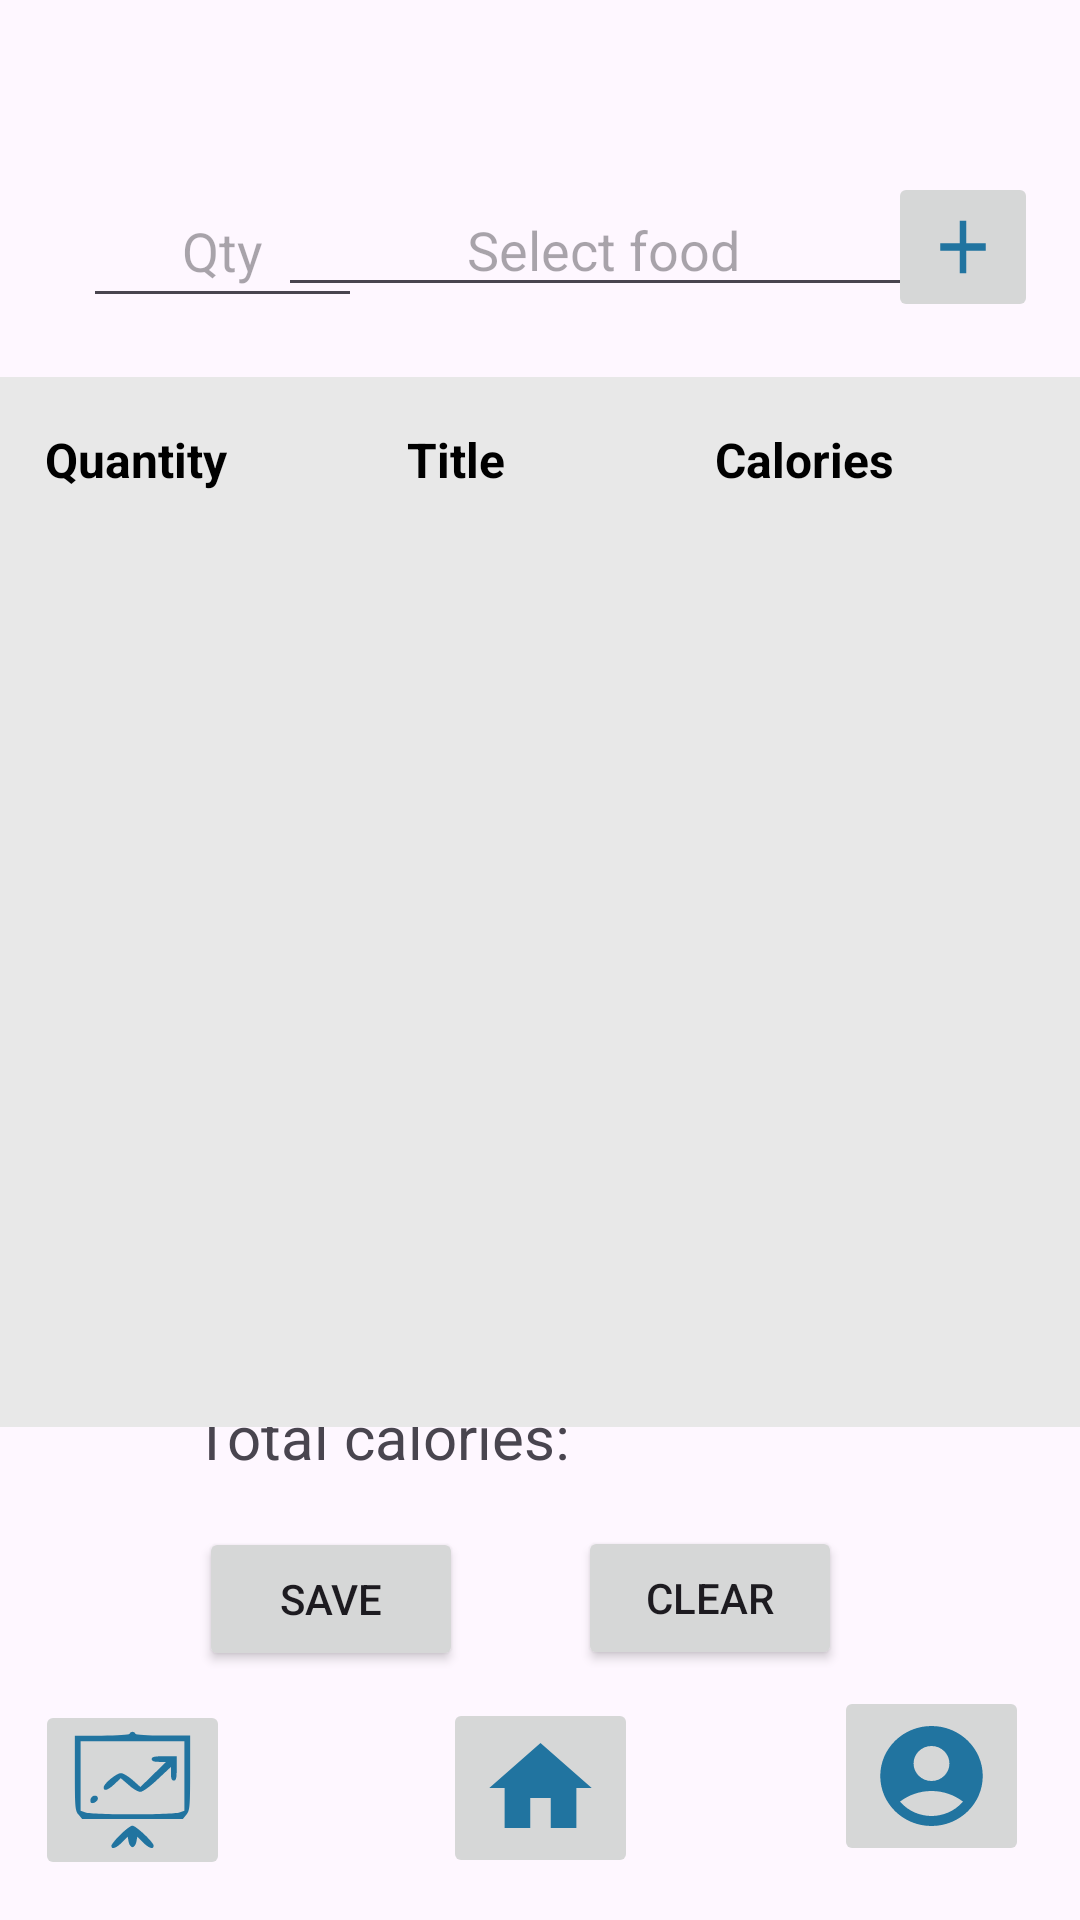

Point at icon controls on the screen. Image size 1080 × 1920, points as (x,y).
account circle: (931,1776)
add: (957,247)
home: (540,1788)
statistics: (132,1790)
